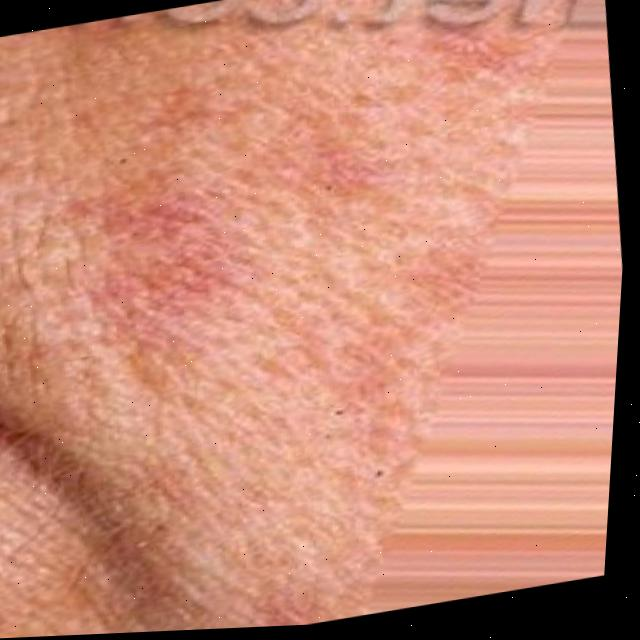Rosacea: (55, 151, 268, 417), (317, 320, 427, 478), (278, 118, 408, 220), (411, 26, 529, 102), (411, 218, 495, 324)
